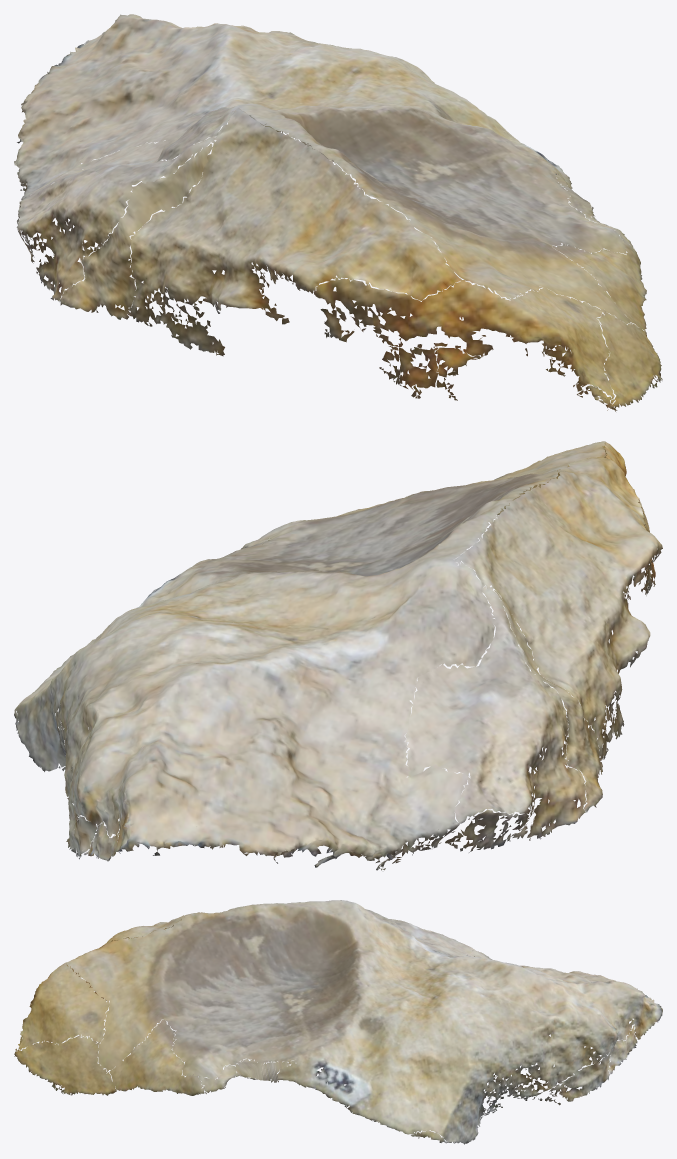
The model's file is modelo2.glb.
The picture shows the model from 3 angles, top to bottom: view 1: azimuth 30°, elevation 25°; view 2: azimuth 150°, elevation 25°; view 3: azimuth 270°, elevation 25°; orthographic projection. The views are drawn at different scales.
Visible parts, largest first — view 1: ghunlpam-15375; view 2: ghunlpam-15375; view 3: ghunlpam-15375.
Boxes of the visible parts, x1,y1,x2,y2 form: ghunlpam-15375: (14, 14, 662, 411); ghunlpam-15375: (14, 441, 662, 870); ghunlpam-15375: (14, 900, 662, 1144).
Bounding box in the file's own units: 0.6136 × 0.2429 × 0.9976.
Materials: 1 (1 with a texture image).
